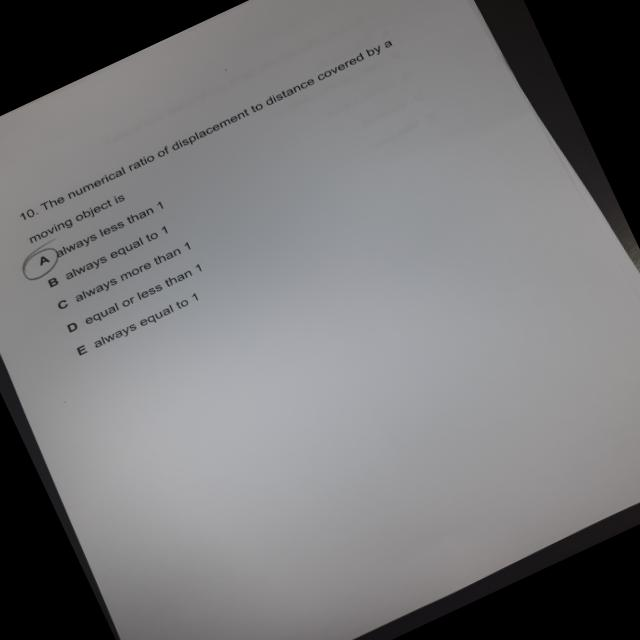A: (14, 242, 69, 288)
